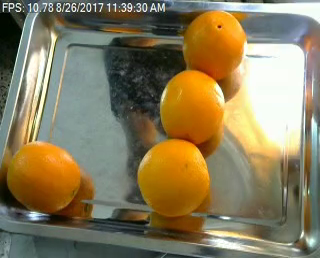Orange: (137, 139, 210, 216), (7, 141, 79, 213), (159, 69, 225, 146), (182, 10, 246, 81)
